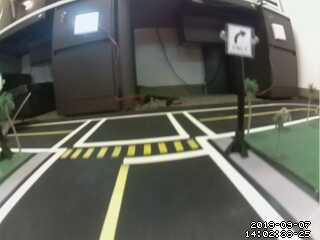Right_only_sign: (223, 22, 254, 59)
